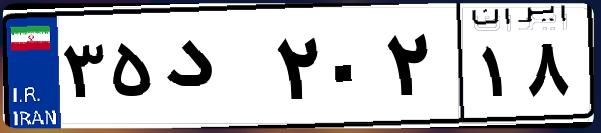0: (330, 28, 385, 110)
1: (475, 38, 525, 113)
2: (270, 28, 330, 110), (385, 28, 445, 110)
3: (57, 26, 110, 100)
5: (110, 28, 158, 98)
8: (525, 38, 570, 115)
د: (158, 20, 270, 120)
